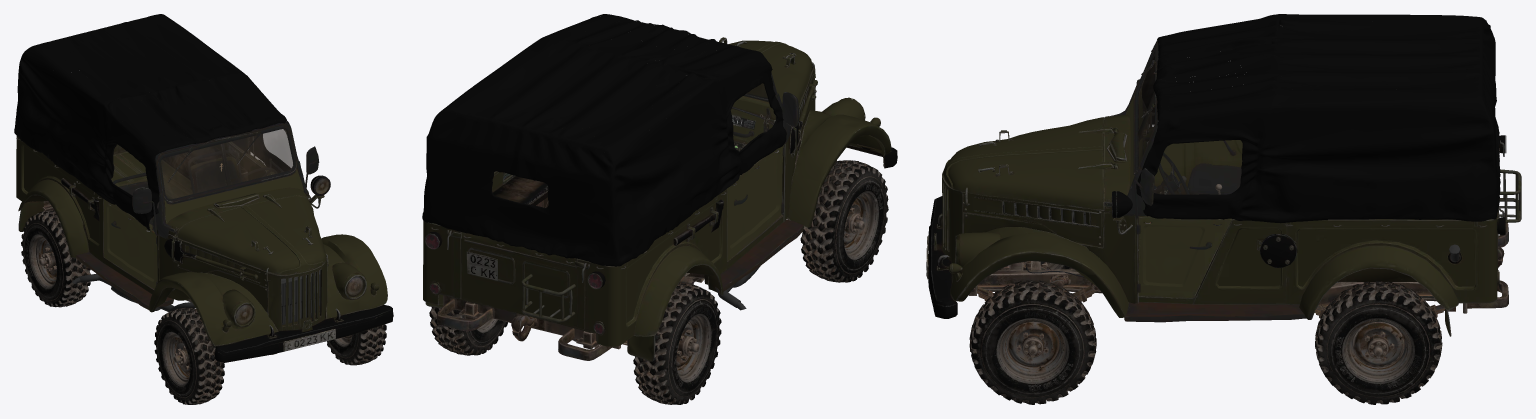
Rendered from g-gaz.glb.
3 renders of one model, left to right at view 1: azimuth 30°, elevation 25°; view 2: azimuth 150°, elevation 25°; view 3: azimuth 270°, elevation 25°, orthographic. The views are drawn at different scales.
Visible parts, largest first — view 1: SK_Roof_Tarp_01, SK_Cap_01, SK_R_Mudgard, SK_Glass_04, SK_Mudguard_FR_01, SK_F_Window_01, SK_Offroad_Tire_01.005, SK_Mudguard_FL_01, SK_Offroad_Tire_01.014, SK_Fender_01, SK_F_Door_02, SK_Air_Vent_01 (+17 smaller); view 2: SK_Roof_Tarp_01, SK_R_Mudgard, SK_Back_Door_01, SK_Offroad_Tire_01.005, SK_Offroad_Tire_01.014, SK_Mudguard_FR_01, SK_F_Door_02, SK_Chassis_Frame_01, SK_L_Mudgard_01, SK_Cap_01, SK_Offroad_Tire_01.016, SK_Step_01 (+10 smaller); view 3: SK_Roof_Tarp_01, SK_L_Mudgard_01, SK_Cap_01, SK_Offroad_Tire_01.004, SK_Offroad_Tire_01.016, SK_Mudguard_FL_01, SK_F_Door_01, SK_Side_Caps_03, SK_Chassis_Frame_01, SK_Side_Caps_04, SK_Step_01, SK_F_Door_02 (+14 smaller).
Part boxes in pixels (<box>): SK_Roof_Tarp_01: <box>14,14,298,230</box>; SK_Cap_01: <box>177,194,328,281</box>; SK_R_Mudgard: <box>16,136,154,293</box>; SK_Glass_04: <box>161,129,293,199</box>; SK_Mudguard_FR_01: <box>149,272,278,346</box>; SK_F_Window_01: <box>152,122,311,238</box>; SK_Offroad_Tire_01.005: <box>154,307,224,404</box>; SK_Mudguard_FL_01: <box>321,234,387,318</box>; SK_Offroad_Tire_01.014: <box>21,210,90,307</box>; SK_Fender_01: <box>214,304,393,362</box>; SK_F_Door_02: <box>103,199,157,289</box>; SK_Air_Vent_01: <box>267,258,327,330</box>; SK_Roof_Tarp_01: <box>422,14,786,266</box>; SK_R_Mudgard: <box>578,189,783,346</box>; SK_Back_Door_01: <box>447,230,589,328</box>; SK_Offroad_Tire_01.005: <box>800,160,888,282</box>; SK_Offroad_Tire_01.014: <box>633,282,721,404</box>; SK_Mudguard_FR_01: <box>787,97,891,227</box>; SK_F_Door_02: <box>727,145,784,261</box>; SK_Chassis_Frame_01: <box>437,139,836,360</box>; SK_L_Mudgard_01: <box>423,171,548,305</box>; SK_Cap_01: <box>719,37,815,107</box>; SK_Offroad_Tire_01.016: <box>429,307,507,355</box>; SK_Step_01: <box>715,219,803,293</box>; SK_Roof_Tarp_01: <box>1136,14,1500,223</box>; SK_L_Mudgard_01: <box>1138,207,1506,319</box>; SK_Cap_01: <box>943,117,1114,209</box>; SK_Offroad_Tire_01.004: <box>969,280,1096,404</box>; SK_Offroad_Tire_01.016: <box>1315,280,1442,404</box>; SK_Mudguard_FL_01: <box>948,227,1128,317</box>; SK_F_Door_01: <box>1136,216,1232,298</box>; SK_Side_Caps_03: <box>963,210,1138,303</box>; SK_Chassis_Frame_01: <box>969,223,1508,313</box>; SK_Side_Caps_04: <box>963,192,1101,246</box>; SK_Step_01: <box>1124,190,1305,322</box>; SK_F_Door_02: <box>1143,112,1242,194</box>.
Size of the model in its own units: 2.18 by 2.39 by 4.39.
9 materials, 6 textured.
